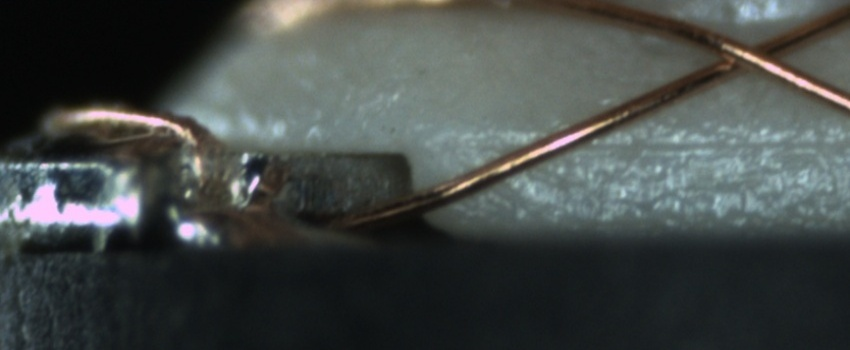CL: (695, 25, 803, 84)
DL: (480, 113, 849, 174)
TE: (35, 102, 217, 151)
